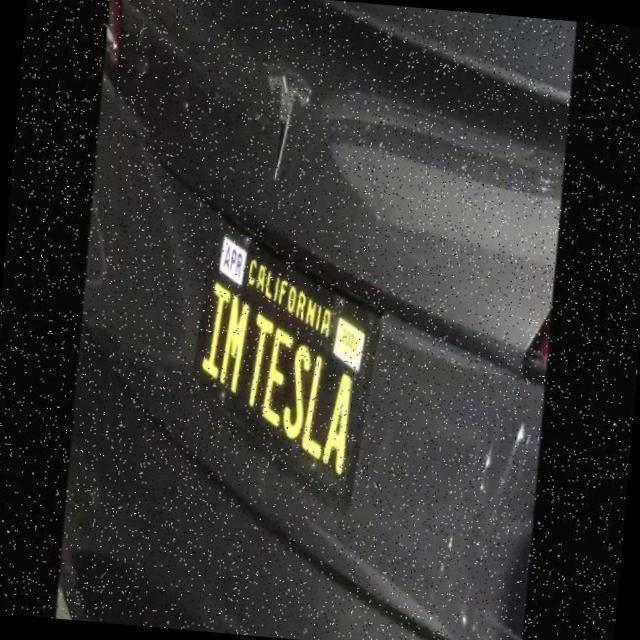license_plate: (178, 196, 394, 522)
